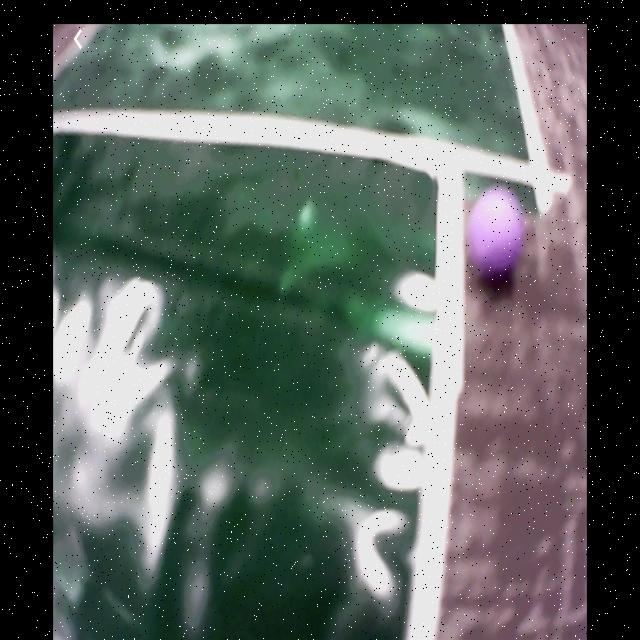ball: (467, 186, 526, 284)
